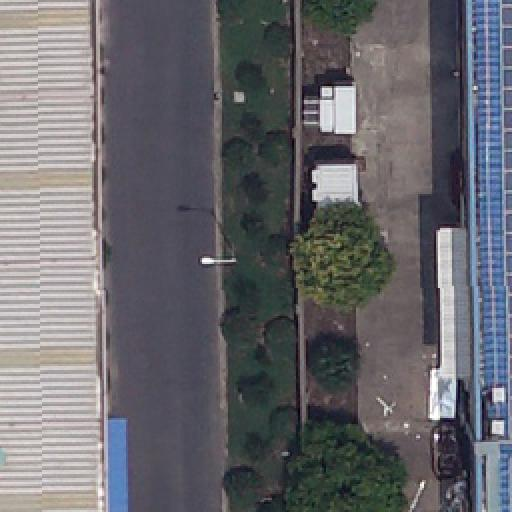solar-panel: (499, 0, 512, 428)
